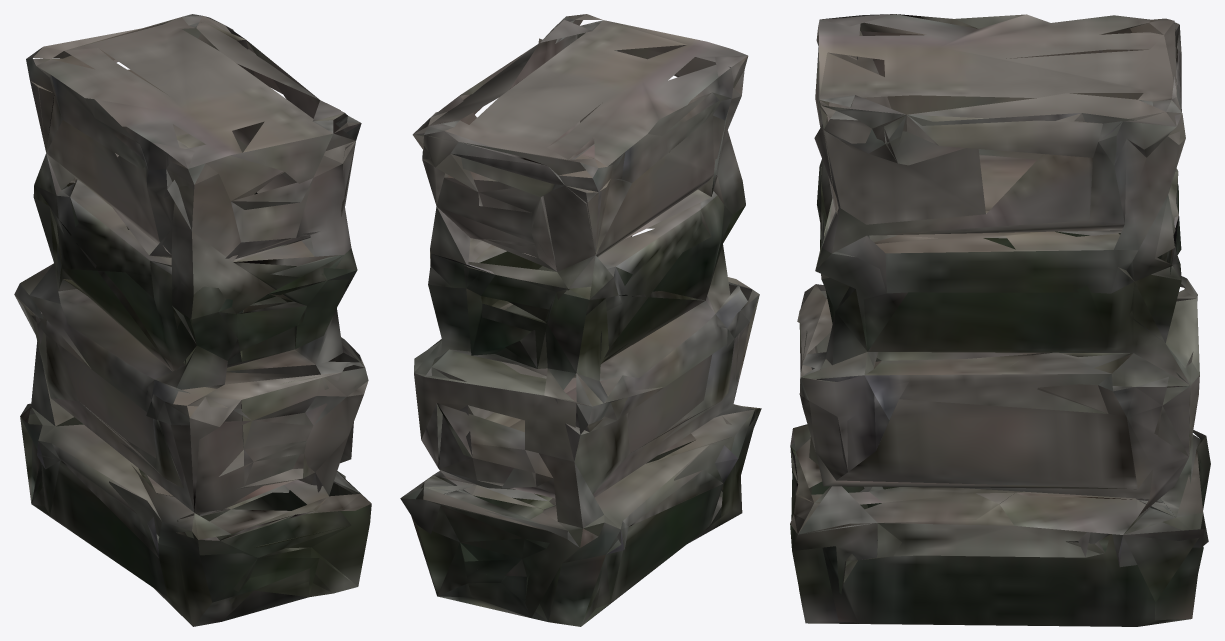
Rendered from crates_1599852408_lod0m.glb.
3 renders of one model, left to right at view 1: azimuth 30°, elevation 25°; view 2: azimuth 150°, elevation 25°; view 3: azimuth 270°, elevation 25°, orthographic. The views are drawn at different scales.
Bounding box in the file's own units: 0.8772 × 1.98 × 1.44.
1 material, 1 textured.
